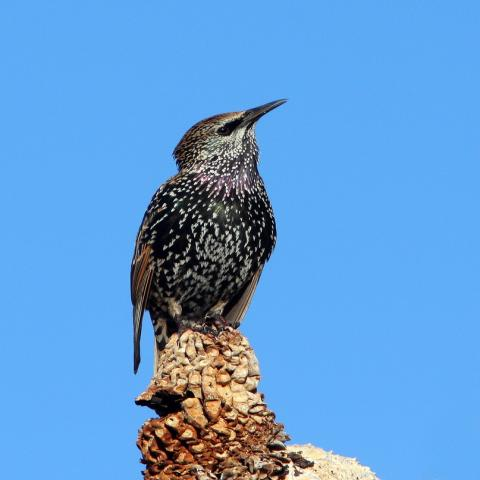bird: (126, 96, 290, 374)
